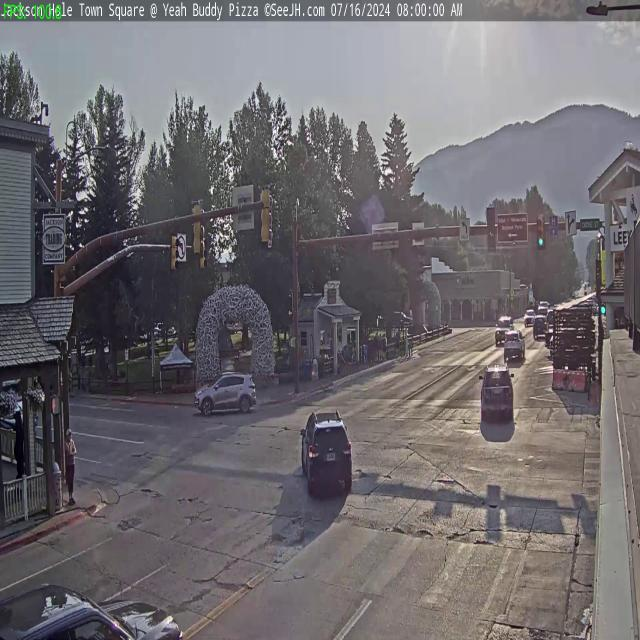person: (63, 429, 75, 504)
suv: (300, 406, 354, 497), (195, 372, 257, 417), (480, 363, 514, 420), (504, 330, 525, 360), (533, 314, 545, 336)
traffic light: (260, 184, 272, 246), (190, 199, 203, 256), (486, 208, 497, 255), (170, 230, 178, 276), (537, 214, 545, 249)
